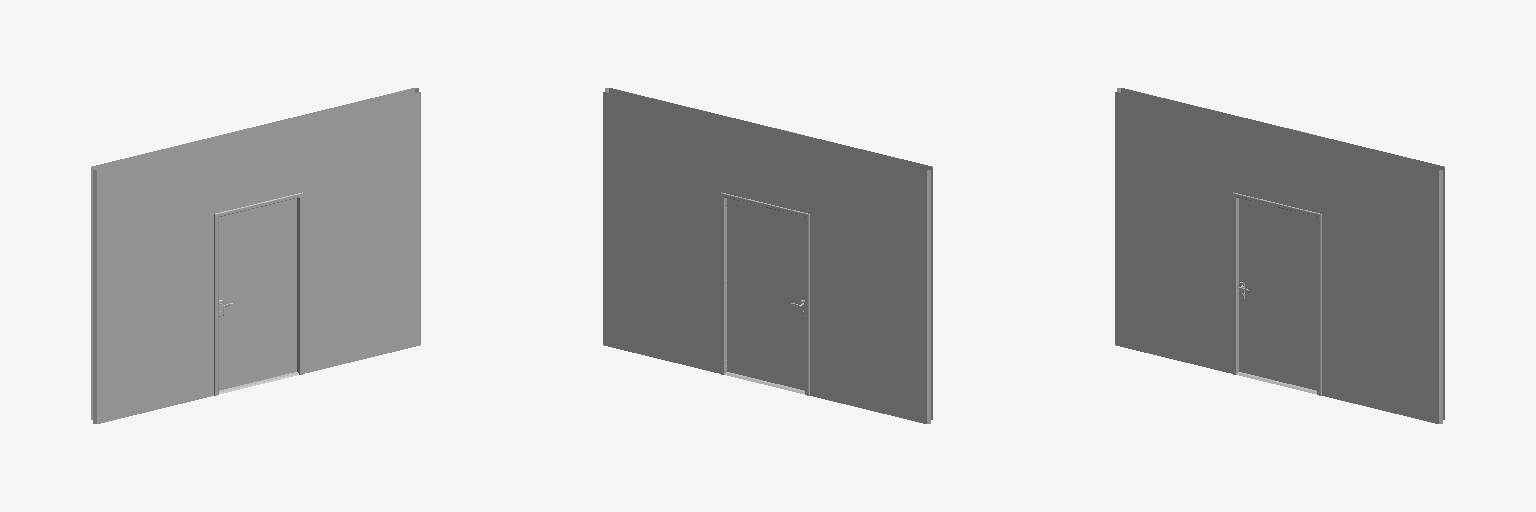
The model's file is doorway_2_plain.obj.
3 views of the same model, side by side, from view 1: azimuth 30°, elevation 25°; view 2: azimuth 150°, elevation 25°; view 3: azimuth 330°, elevation 25° (orthographic).
Parts seen in each view (by area): view 1: doorway_2_plain, door_7; view 2: doorway_2_plain, door_7; view 3: doorway_2_plain, door_7.
Boxes of the visible parts, <box> form: doorway_2_plain: <box>91,88,420,423</box>; door_7: <box>219,198,296,390</box>; doorway_2_plain: <box>603,88,932,423</box>; door_7: <box>726,198,804,390</box>; doorway_2_plain: <box>1115,88,1444,423</box>; door_7: <box>1239,198,1316,390</box>.
Bounding box in the file's own units: 4.06 × 3 × 0.194.